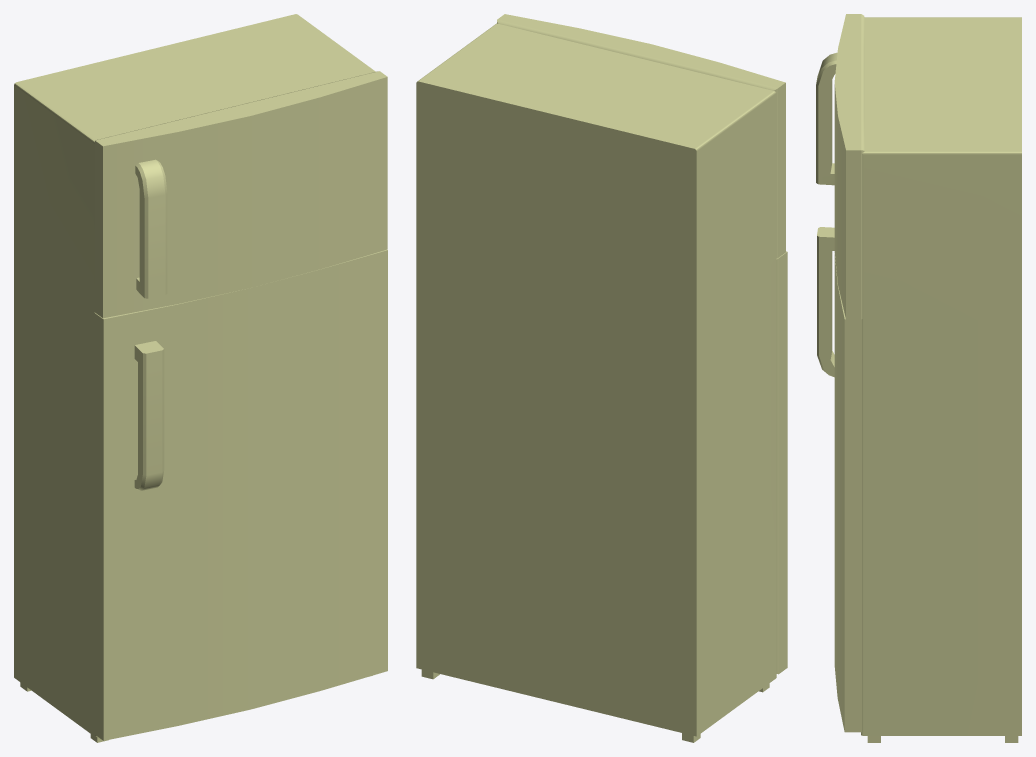
File: EnvrioProp_Fridge.fbx
3 renders of one model, left to right at view 1: azimuth 30°, elevation 25°; view 2: azimuth 150°, elevation 25°; view 3: azimuth 270°, elevation 25°, orthographic.
Visible parts, largest first — view 1: EnviroProp_FridgeShape1; view 2: EnviroProp_FridgeShape1; view 3: EnviroProp_FridgeShape1.
Part boxes in pixels (left/top/right/bottom): EnviroProp_FridgeShape1: left=14, top=14, right=387, bottom=742; EnviroProp_FridgeShape1: left=416, top=14, right=787, bottom=742; EnviroProp_FridgeShape1: left=816, top=14, right=1021, bottom=742.
Size of the model in its own units: 2.01 by 4.07 by 1.28.
